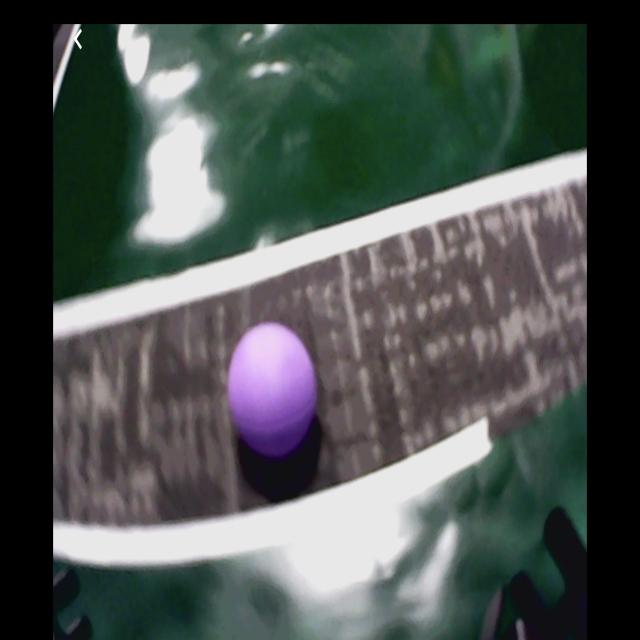ball: (232, 325, 318, 453)
